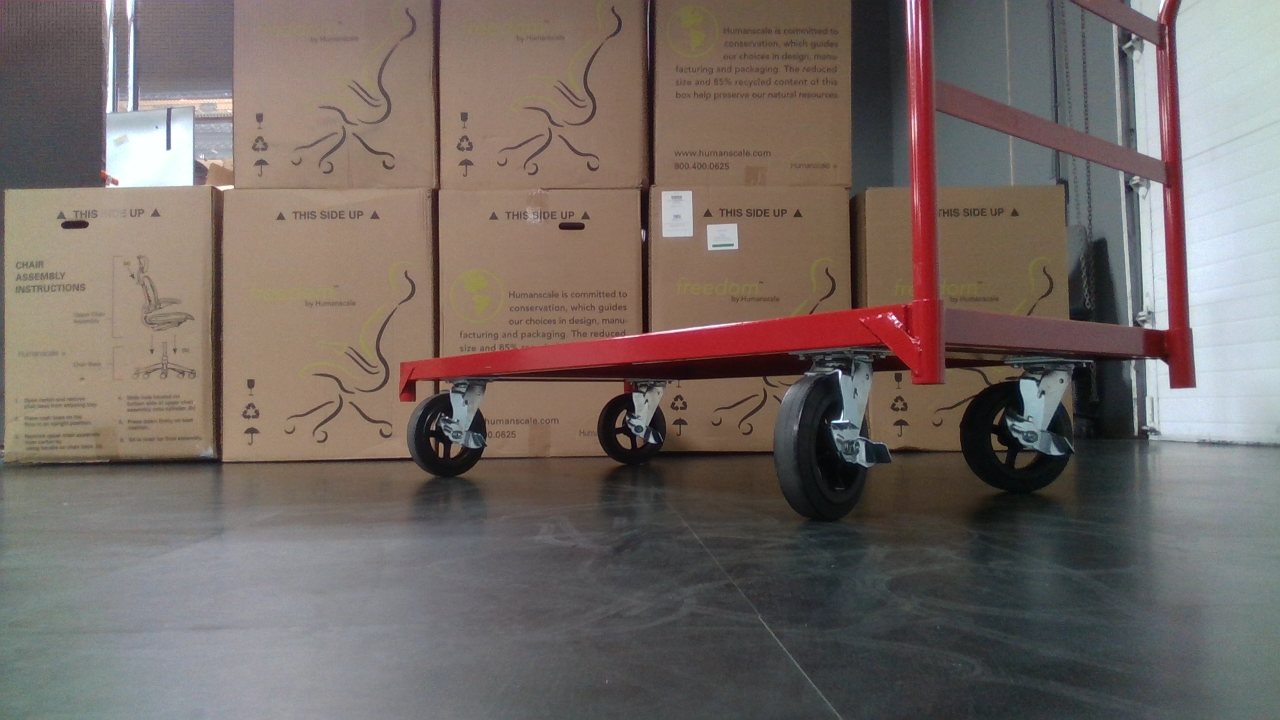Dolly: (365, 0, 1204, 532)
Wheel: (764, 376, 877, 524), (958, 375, 1079, 494), (406, 390, 487, 479), (598, 396, 667, 464)
